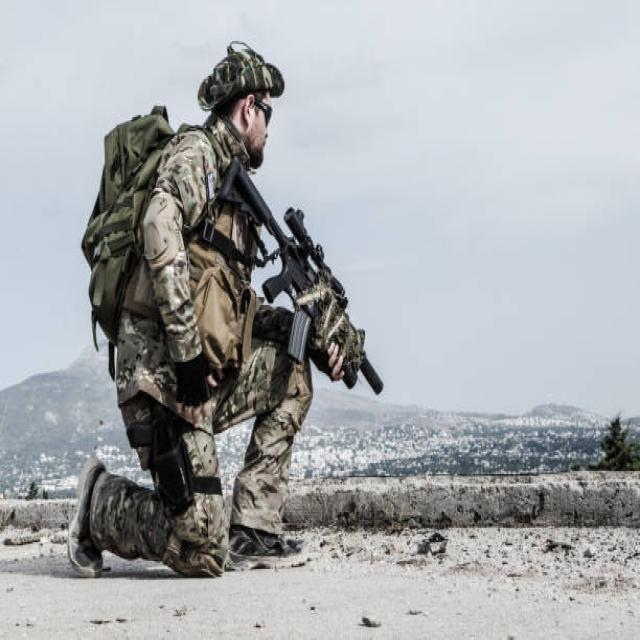soldier: (69, 40, 388, 582)
